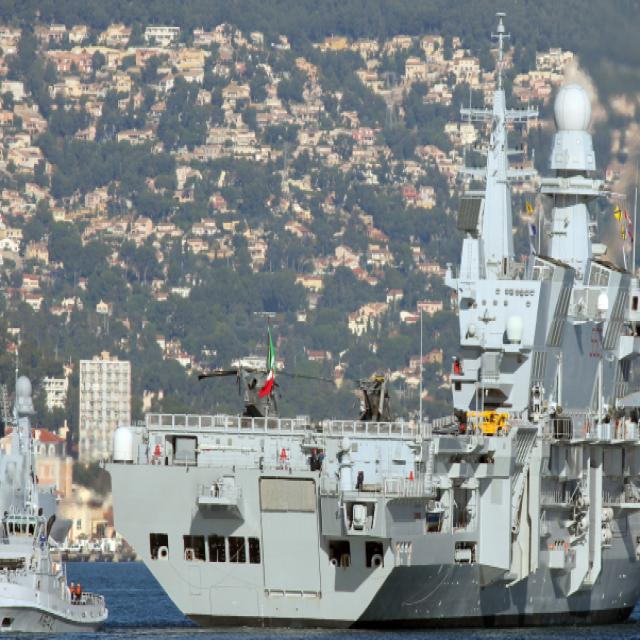Portanaves: (106, 1, 640, 640)
